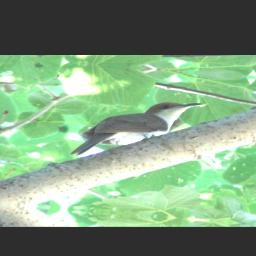Cuckoo: (68, 93, 206, 166)
